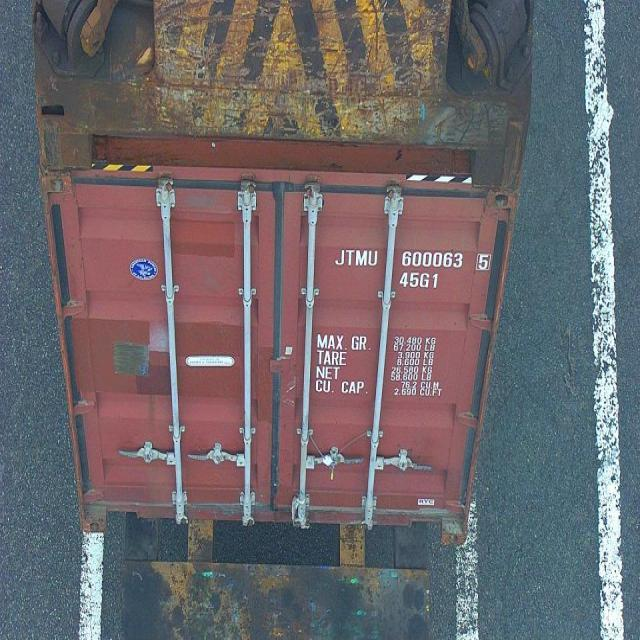ISO: (399, 273, 439, 289)
container_number: (336, 250, 492, 269)
